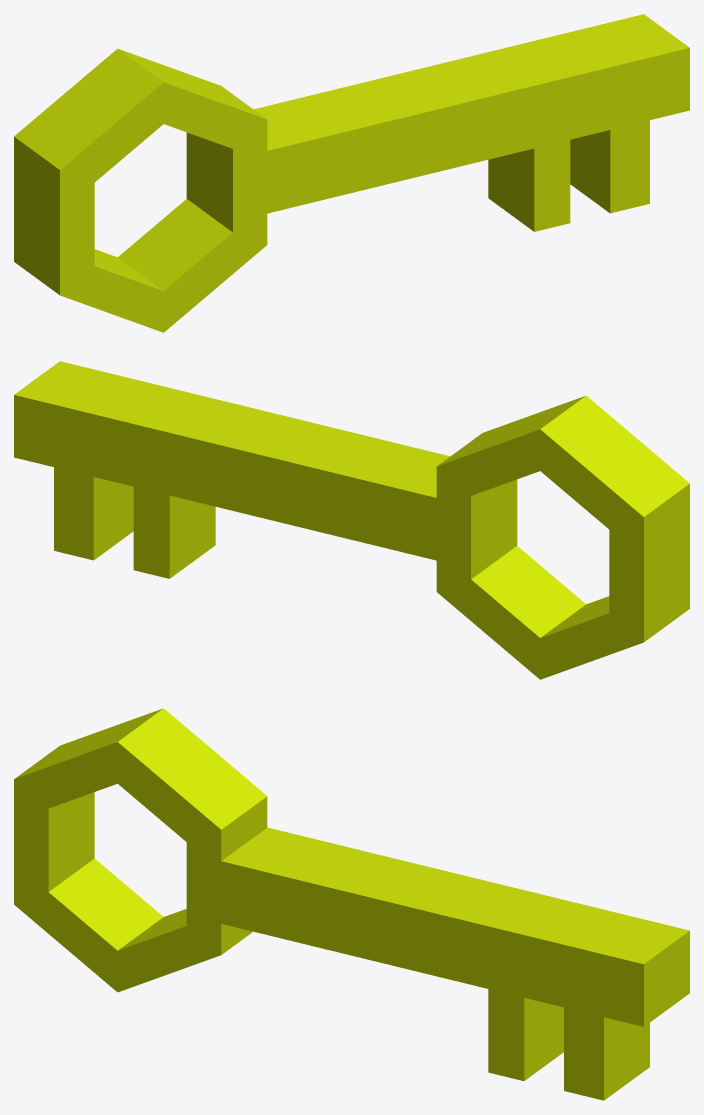
Rendered from key.fbx.
3 renders of one model, top to bottom at view 1: azimuth 30°, elevation 25°; view 2: azimuth 150°, elevation 25°; view 3: azimuth 330°, elevation 25°, orthographic.
Parts seen in each view (by area): view 1: Cylinder; view 2: Cylinder; view 3: Cylinder.
Boxes of the visible parts, left/top/right/bottom form: Cylinder: left=14, top=14, right=689, bottom=332; Cylinder: left=14, top=361, right=689, bottom=679; Cylinder: left=14, top=708, right=689, bottom=1100.
Bounding box in the file's own units: 101 × 38.27 × 12.76.
